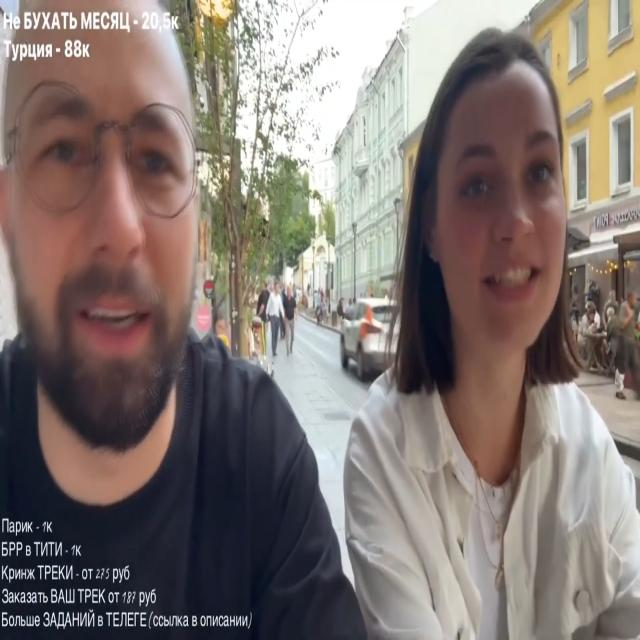Person: (0, 36, 341, 639), (333, 26, 640, 637), (611, 289, 640, 402), (263, 279, 290, 357), (580, 300, 606, 374)
